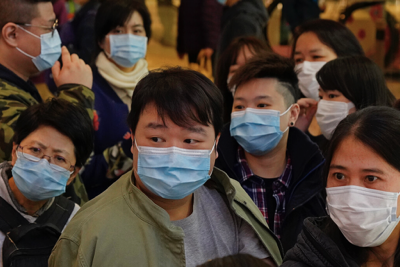with_mask: (324, 162, 399, 251), (133, 121, 213, 201), (11, 138, 75, 201), (228, 94, 282, 156), (293, 47, 337, 101), (107, 21, 148, 69), (314, 88, 351, 140), (31, 16, 61, 74)
